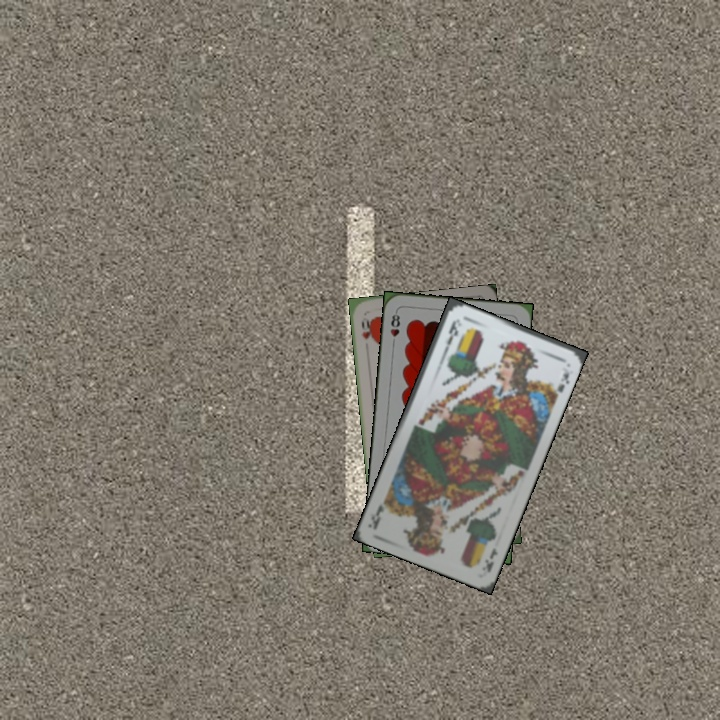EK: (440, 316, 461, 355), (480, 544, 500, 576)
H8: (386, 307, 402, 348)
HO: (357, 316, 375, 341)
